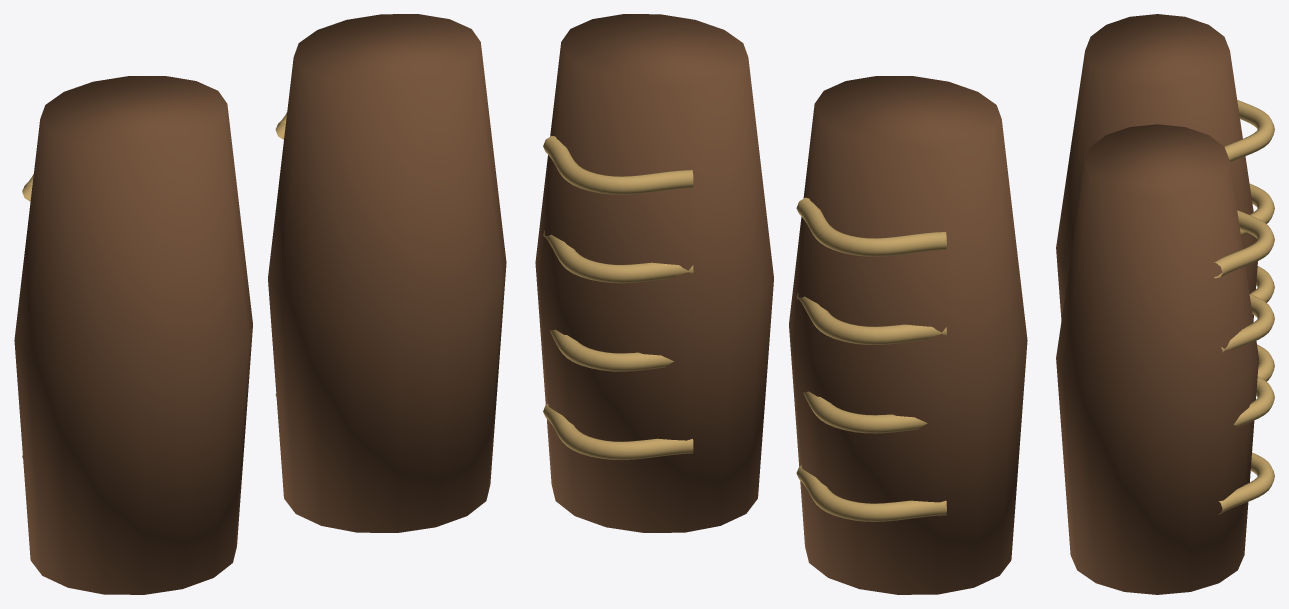
Rendered from ranger_trousers.glb.
The picture shows the model from 3 angles, left to right: view 1: azimuth 30°, elevation 25°; view 2: azimuth 150°, elevation 25°; view 3: azimuth 270°, elevation 25°; orthographic projection. The views are drawn at different scales.
Visible parts, largest first — view 1: Articulated shell, Articulated shell.001; view 2: Articulated shell, Articulated shell.001, Panel piping.003, Panel piping.007, Panel piping.004, Panel piping, Panel piping.006, Panel piping.002, Panel piping.001, Panel piping.005; view 3: Articulated shell.001, Articulated shell, Panel piping.007, Panel piping.003, Panel piping.004, Panel piping.006, Panel piping.005, Panel piping.002, Panel piping.001, Panel piping.
Boxes of the visible parts, box(x1,y1,x2,y2) form: Articulated shell: box(14, 76, 252, 594); Articulated shell.001: box(268, 14, 506, 532); Articulated shell: box(789, 76, 1027, 594); Articulated shell.001: box(535, 14, 773, 532); Panel piping.003: box(796, 197, 946, 256); Panel piping.007: box(543, 136, 693, 194); Panel piping.004: box(543, 403, 693, 459); Panel piping: box(796, 465, 946, 521); Panel piping.006: box(543, 230, 693, 283); Panel piping.002: box(796, 292, 946, 344); Panel piping.001: box(803, 391, 927, 433); Panel piping.005: box(549, 329, 673, 371); Articulated shell.001: box(1056, 124, 1258, 594); Articulated shell: box(1056, 14, 1257, 320); Panel piping.007: box(1213, 210, 1274, 278); Panel piping.003: box(1224, 100, 1274, 161); Panel piping.004: box(1218, 452, 1274, 514); Panel piping.006: box(1221, 294, 1274, 352); Panel piping.005: box(1233, 376, 1274, 426); Panel piping.002: box(1240, 183, 1274, 236); Panel piping.001: box(1251, 266, 1274, 302); Panel piping: box(1257, 344, 1274, 381).
Size of the model in its own units: 0.66 by 0.6 by 0.302.
